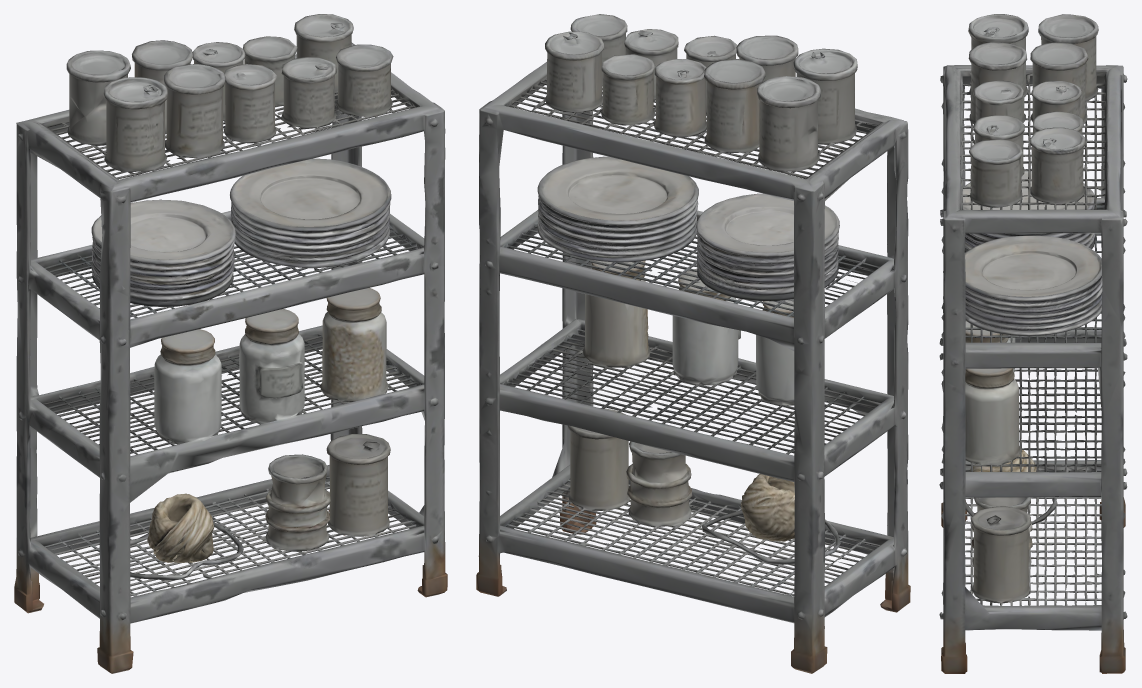
File: silo81_shelf.glb
3 renders of one model, left to right at view 1: azimuth 30°, elevation 25°; view 2: azimuth 150°, elevation 25°; view 3: azimuth 270°, elevation 25°, orthographic. The views are drawn at different scales.
Parts seen in each view (by area): view 1: tripo_node_f695fc85-e062-4725-b627-e483872733bf; view 2: tripo_node_f695fc85-e062-4725-b627-e483872733bf; view 3: tripo_node_f695fc85-e062-4725-b627-e483872733bf.
Boxes of the visible parts, x1,y1,x2,y2 form: tripo_node_f695fc85-e062-4725-b627-e483872733bf: [14, 14, 447, 673]; tripo_node_f695fc85-e062-4725-b627-e483872733bf: [476, 14, 910, 673]; tripo_node_f695fc85-e062-4725-b627-e483872733bf: [939, 14, 1127, 673].
Size of the model in its own units: 0.6328 by 0.9809 by 0.3208.
1 material, 1 textured.
